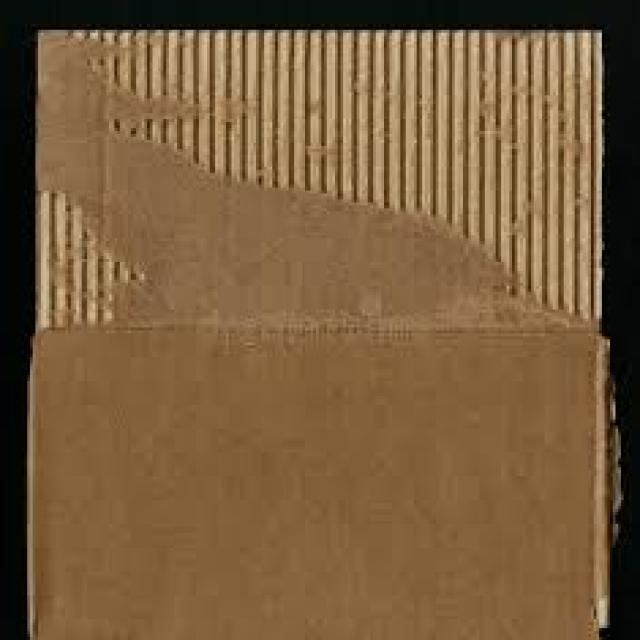cardboard: (22, 24, 621, 637)
